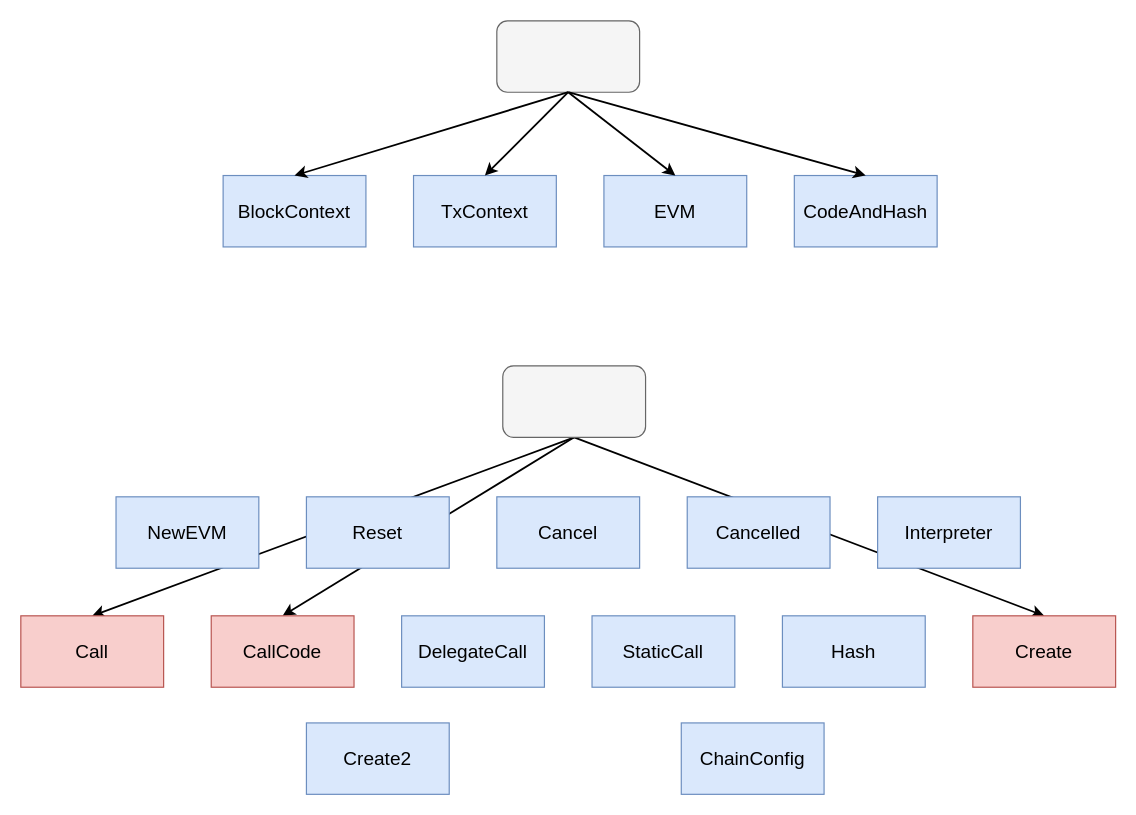
Some shapes in this 1136 by 815 pixel diagram are drawn without their labels. Each missing label, with the centre of its shape:
"Function" belongs at point (574, 401).
"Struct" belongs at point (568, 56).
